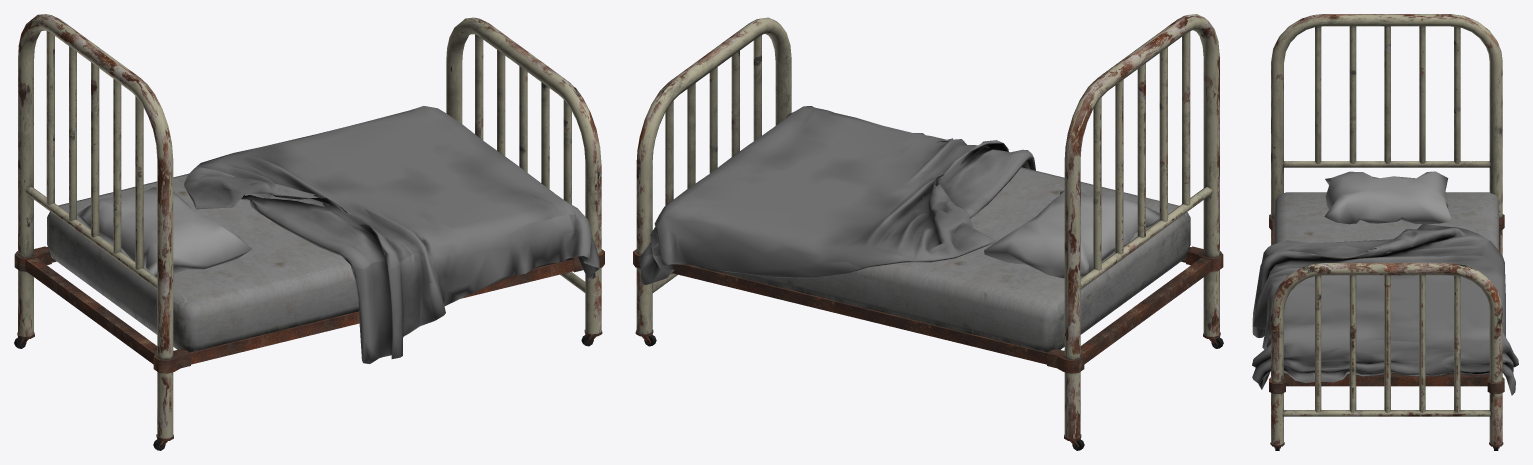
File: bed.glb
3 views of the same model, side by side, from view 1: azimuth 30°, elevation 25°; view 2: azimuth 150°, elevation 25°; view 3: azimuth 270°, elevation 25° (orthographic). The views are drawn at different scales.
Parts seen in each view (by area): view 1: low_Pillow_1; view 2: low_Pillow_1; view 3: low_Pillow_1.
Part boxes in pixels (x1,y1,x2,y2): low_Pillow_1: (14,14,604,450); low_Pillow_1: (633,14,1223,450); low_Pillow_1: (1252,14,1518,450).
Bounding box in the file's own units: 187 × 139 × 123.
Materials: 3 (2 with a texture image).
